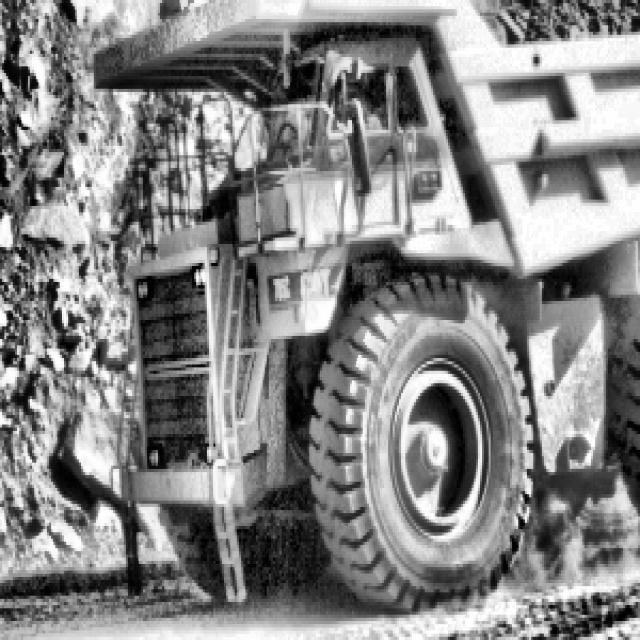dump_truck: (70, 0, 640, 640)
